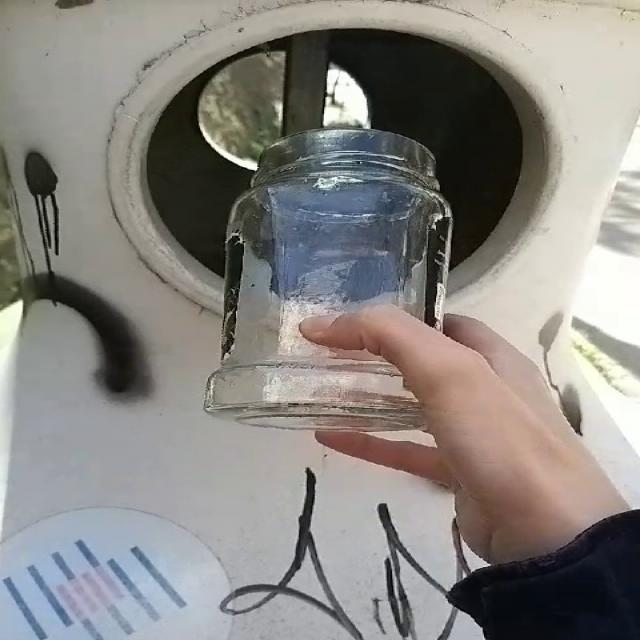glass: (205, 128, 453, 431)
